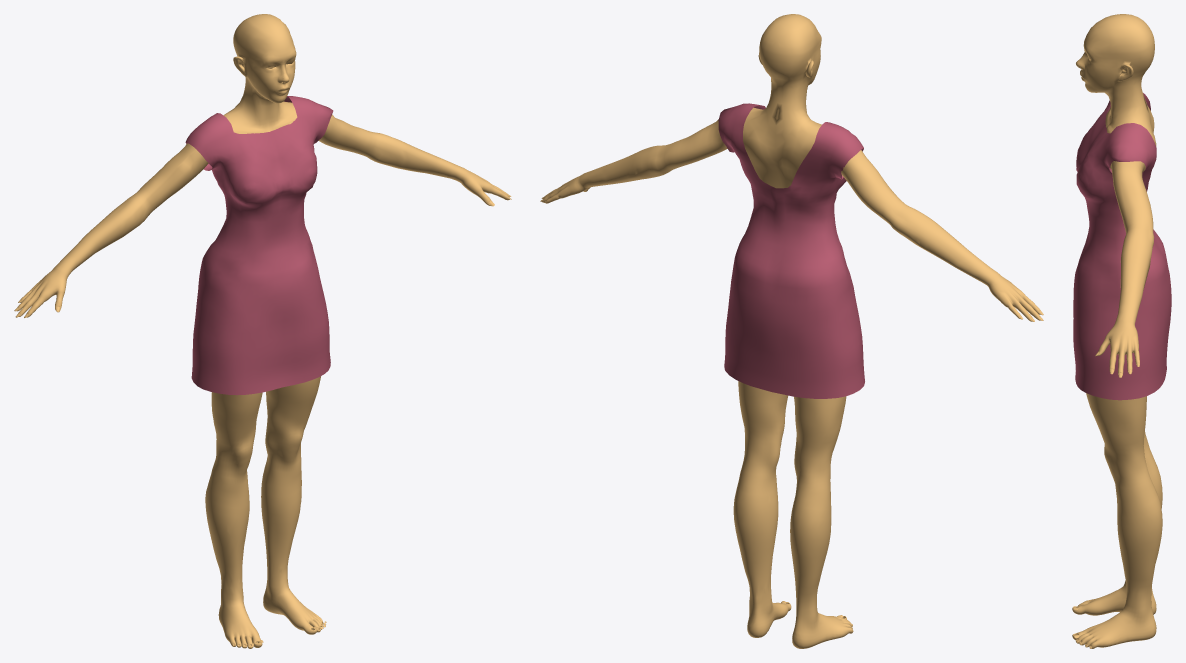
File: dress7.glb
3 renders of one model, left to right at view 1: azimuth 30°, elevation 25°; view 2: azimuth 150°, elevation 25°; view 3: azimuth 270°, elevation 25°, orthographic.
Parts seen in each view (by area): view 1: Body, Jennifer.F_Dress_01; view 2: Body, Jennifer.F_Dress_01; view 3: Body, Jennifer.F_Dress_01.
Part boxes in pixels (x1=…): Body: x1=17, y1=14, x2=511, y2=648; Jennifer.F_Dress_01: x1=185, y1=96, x2=333, y2=395; Body: x1=541, y1=14, x2=1041, y2=648; Jennifer.F_Dress_01: x1=718, y1=103, x2=864, y2=398; Body: x1=1072, y1=14, x2=1162, y2=648; Jennifer.F_Dress_01: x1=1073, y1=93, x2=1171, y2=400.
Bounding box in the file's own units: 1.58 × 1.85 × 0.2723.
